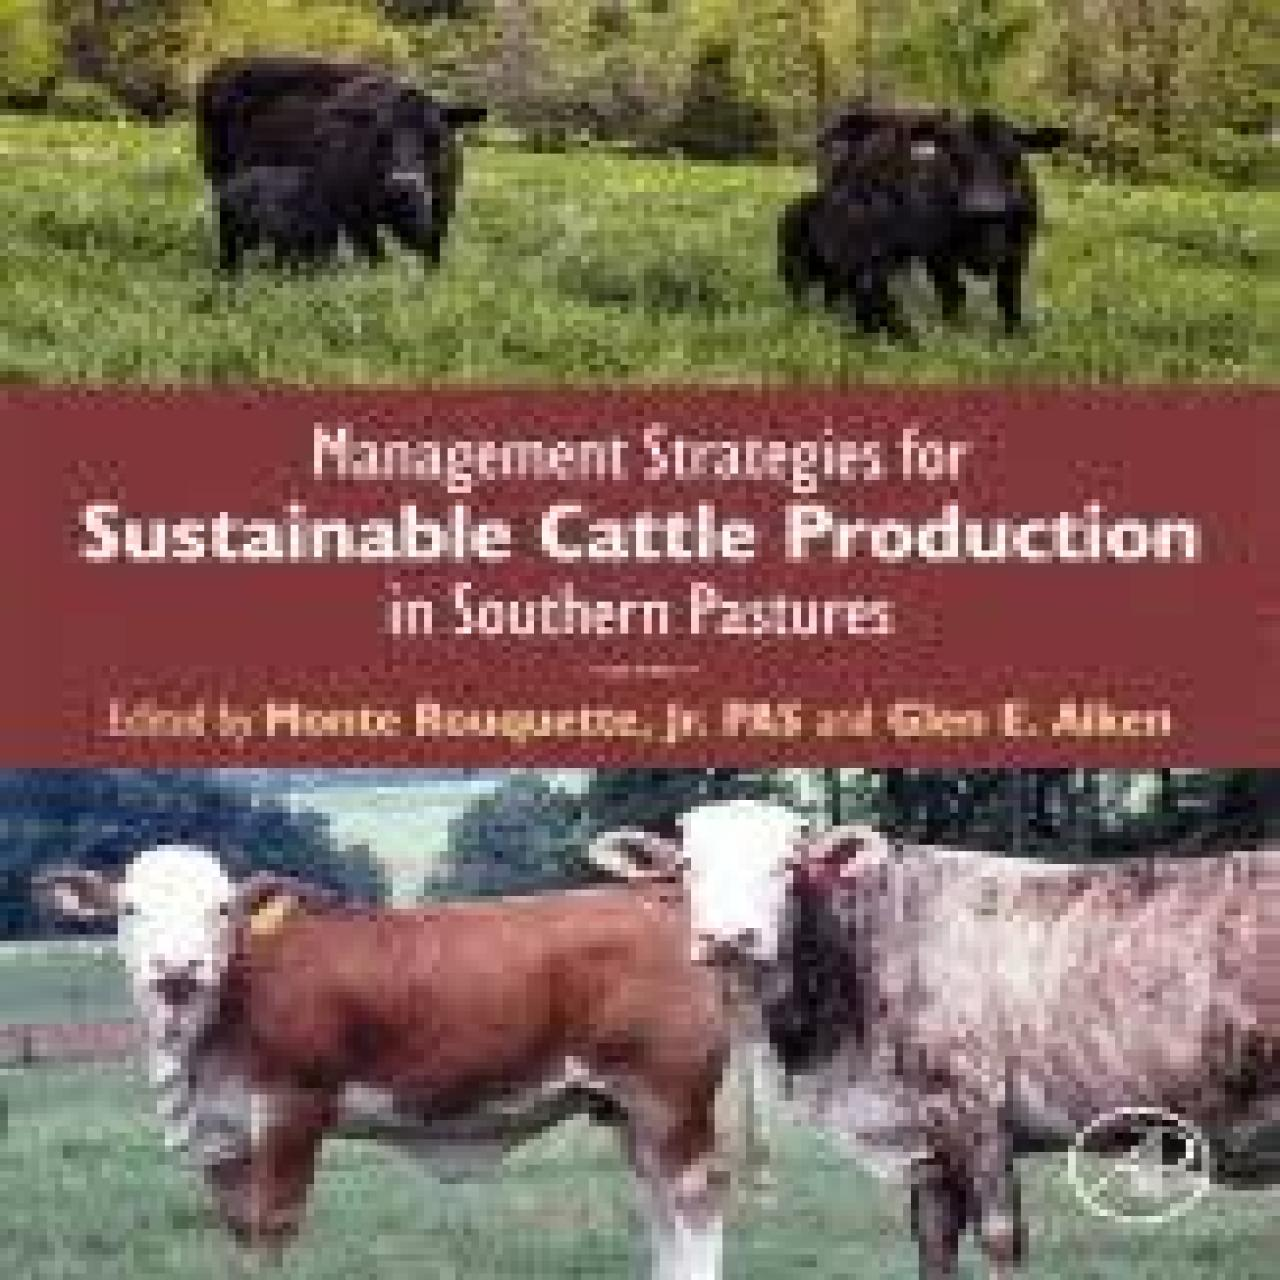cow: (581, 799, 1280, 1280), (39, 845, 738, 1280), (196, 61, 478, 266), (832, 105, 1076, 329), (782, 189, 922, 329), (212, 166, 331, 263)
